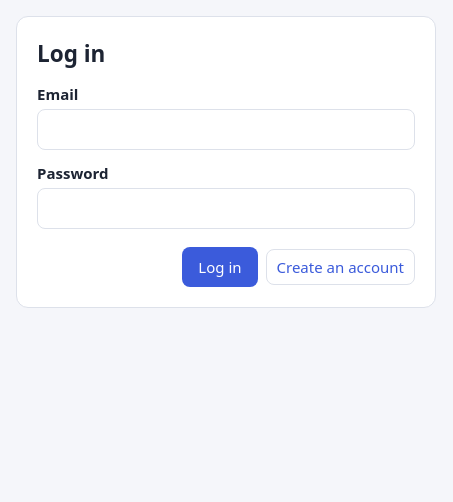
Test: Login › registration needs a name and an 8 character password
Click the button "Create an account". click: (340, 267)
box: [266,249,415,285]
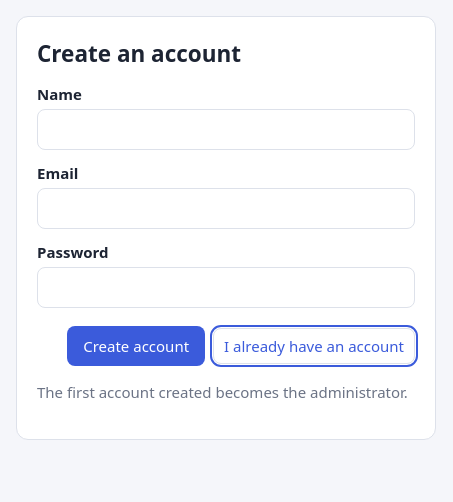
Type "new@example.com" into the field labelled "Email". click: (226, 209)
box: [37,188,415,229]
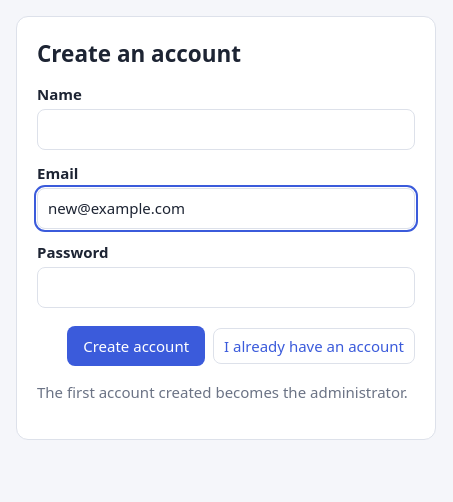
Type "short" into the password field labelled "Password". click: (226, 288)
box: [37,267,415,308]
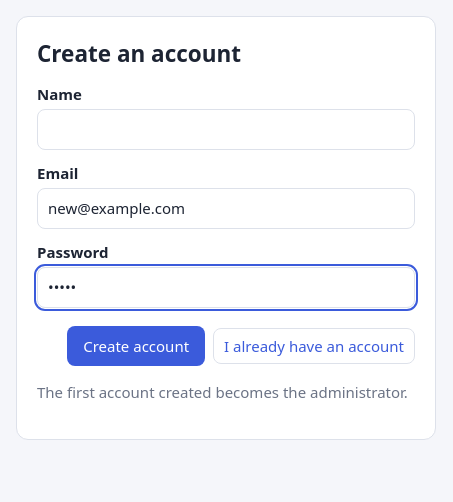
Click the button "Create account". click: (136, 346)
box: [67,326,205,366]
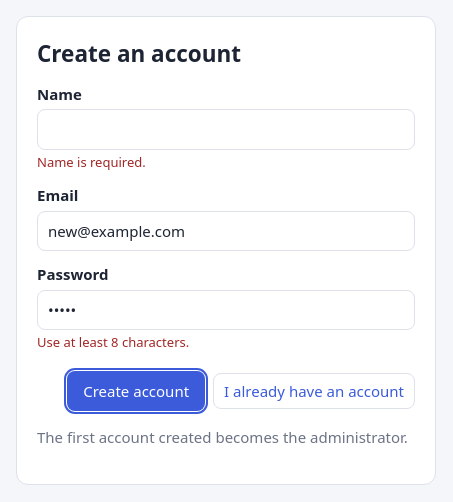
Result: the text "Name is required." is shown at [37,153,146,171]
Result: the text "Use at least 8 characters." is shown at [37,333,189,351]
